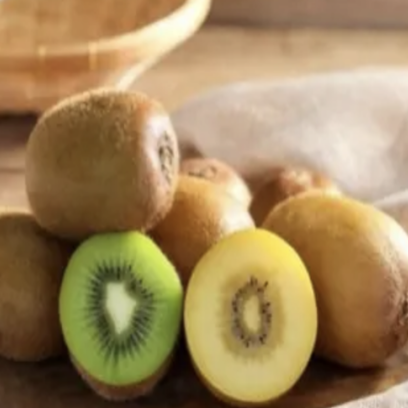kiwi: (250, 162, 407, 395), (13, 83, 191, 235)
